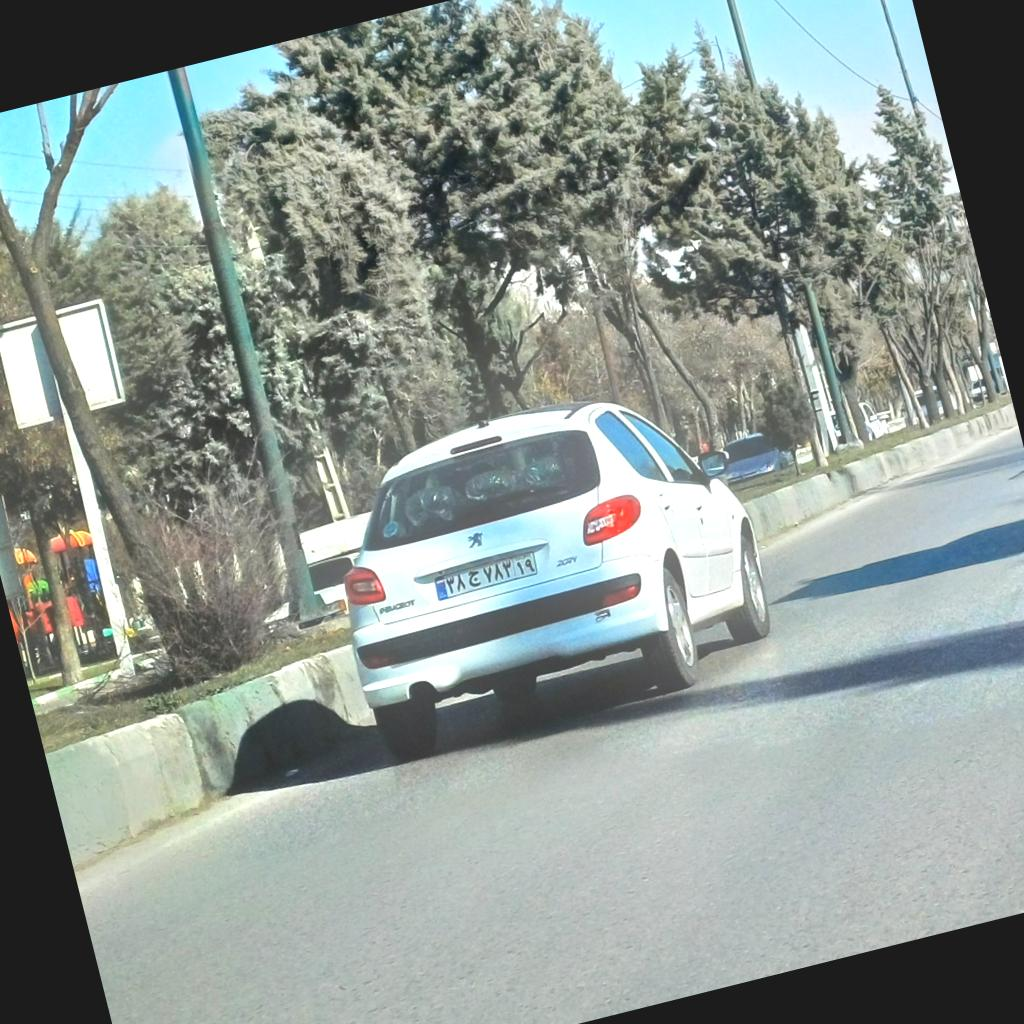Plates: (432, 550, 539, 600)
